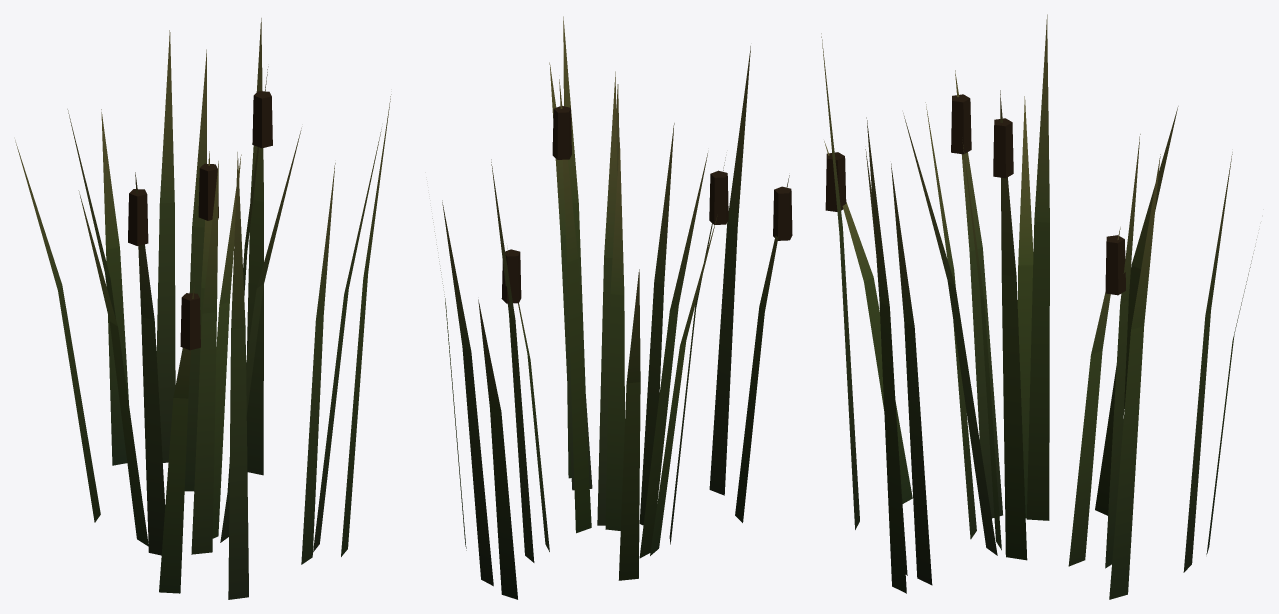
The model's file is reeds_lod0.glb.
3 views of the same model, side by side, from view 1: azimuth 30°, elevation 25°; view 2: azimuth 150°, elevation 25°; view 3: azimuth 270°, elevation 25° (orthographic). The views are drawn at different scales.
Parts seen in each view (by area): view 1: reeds_lod0; view 2: reeds_lod0; view 3: reeds_lod0.
Boxes of the visible parts, left/top/right/bottom form: reeds_lod0: left=15, top=18, right=391, bottom=599; reeds_lod0: left=432, top=16, right=792, bottom=599; reeds_lod0: left=821, top=14, right=1256, bottom=599.
Size of the model in its own units: 0.9543 by 1.71 by 1.41.
